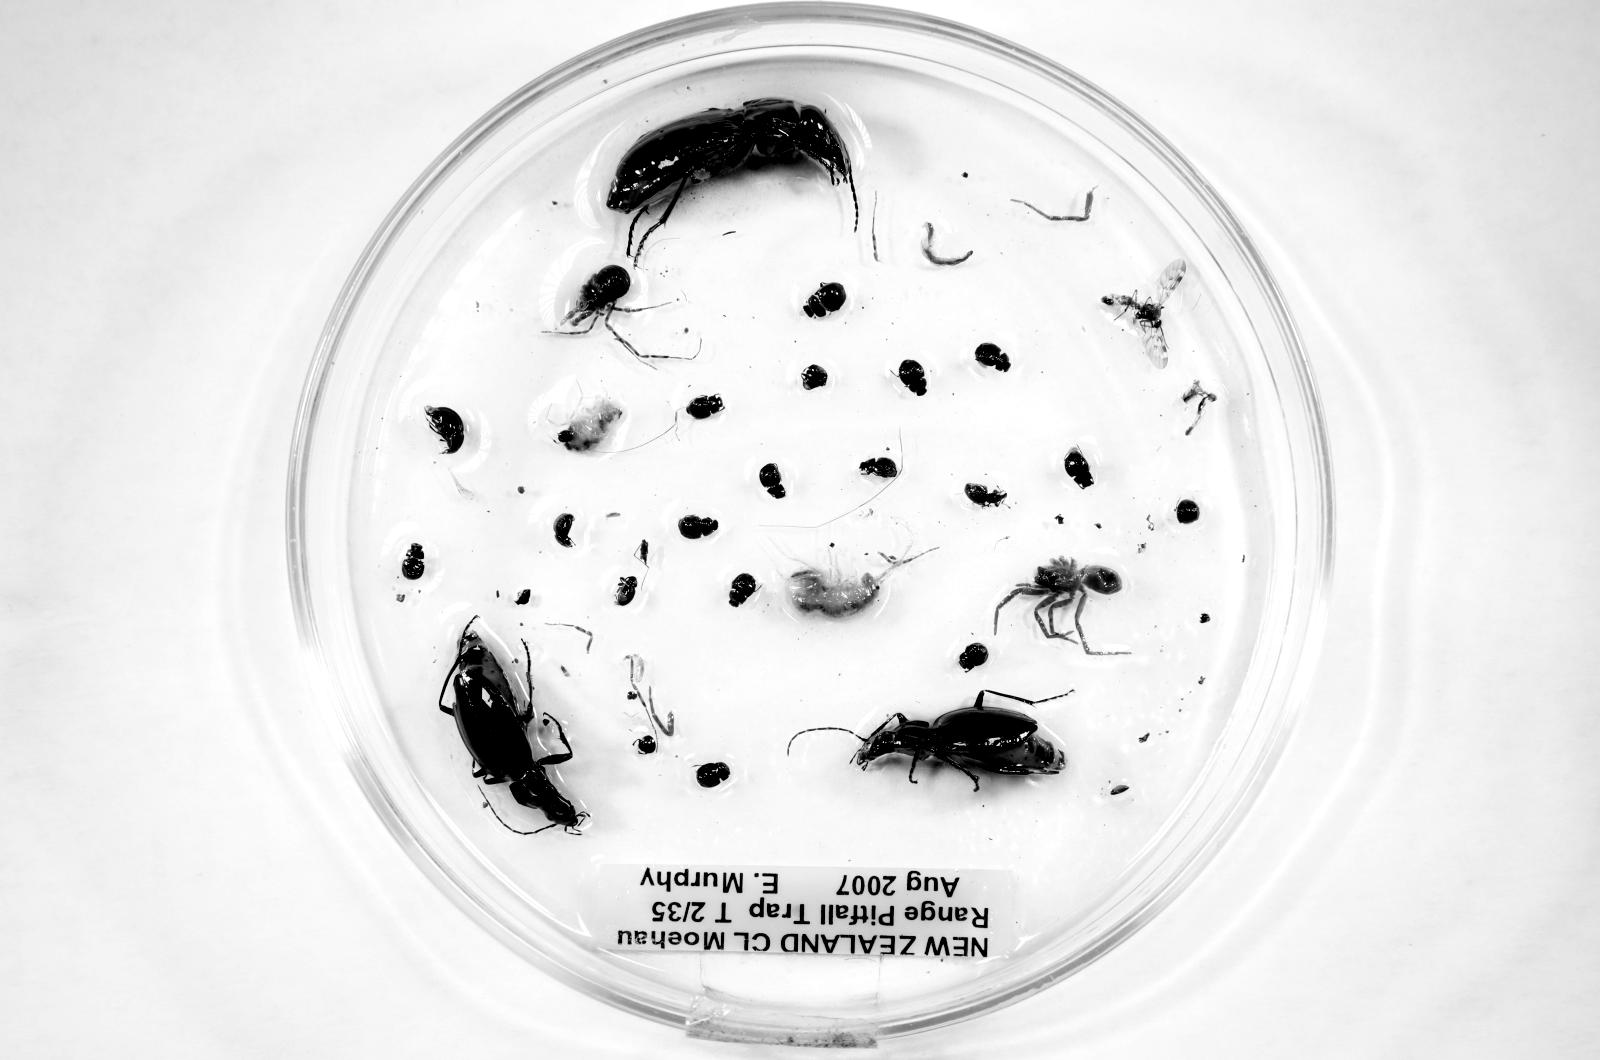amphipoda: (784, 563, 881, 619)
araneae: (993, 556, 1129, 655)
carabidae: (607, 99, 856, 259), (440, 620, 587, 834), (853, 690, 1065, 790)
coleoptera: (423, 406, 465, 453), (803, 283, 847, 318), (1063, 447, 1094, 489), (895, 358, 927, 396), (974, 342, 1011, 373), (964, 483, 1008, 508), (728, 573, 758, 607), (679, 515, 719, 539), (759, 463, 786, 499), (686, 394, 724, 420), (401, 543, 426, 581), (695, 762, 731, 788), (958, 642, 989, 672), (860, 457, 899, 479), (552, 512, 576, 548), (614, 576, 639, 607)
diptera: (1100, 259, 1186, 369)
opiliones: (553, 264, 633, 335)
